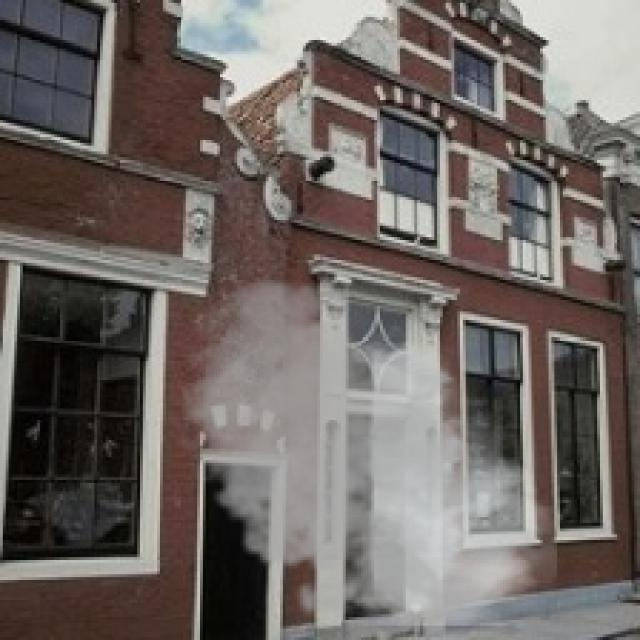smoke: (166, 272, 560, 637)
